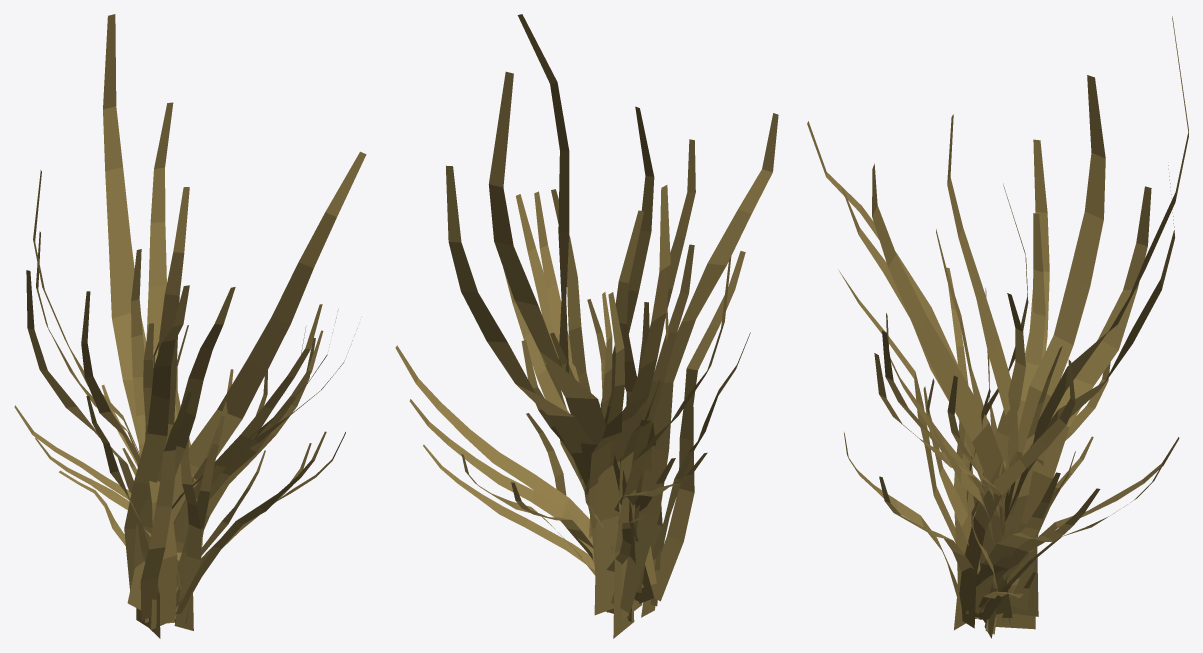
File: DriedGrass.fbx
3 views of the same model, side by side, from view 1: azimuth 30°, elevation 25°; view 2: azimuth 150°, elevation 25°; view 3: azimuth 270°, elevation 25° (orthographic). The views are drawn at different scales.
Parts seen in each view (by area): view 1: Plane.036; view 2: Plane.036; view 3: Plane.036.
Part boxes in pixels (x1=…): Plane.036: x1=14, y1=14, x2=366, y2=638; Plane.036: x1=395, y1=14, x2=778, y2=638; Plane.036: x1=807, y1=16, x2=1188, y2=638.
Size of the model in its own units: 600 by 1069 by 584.
